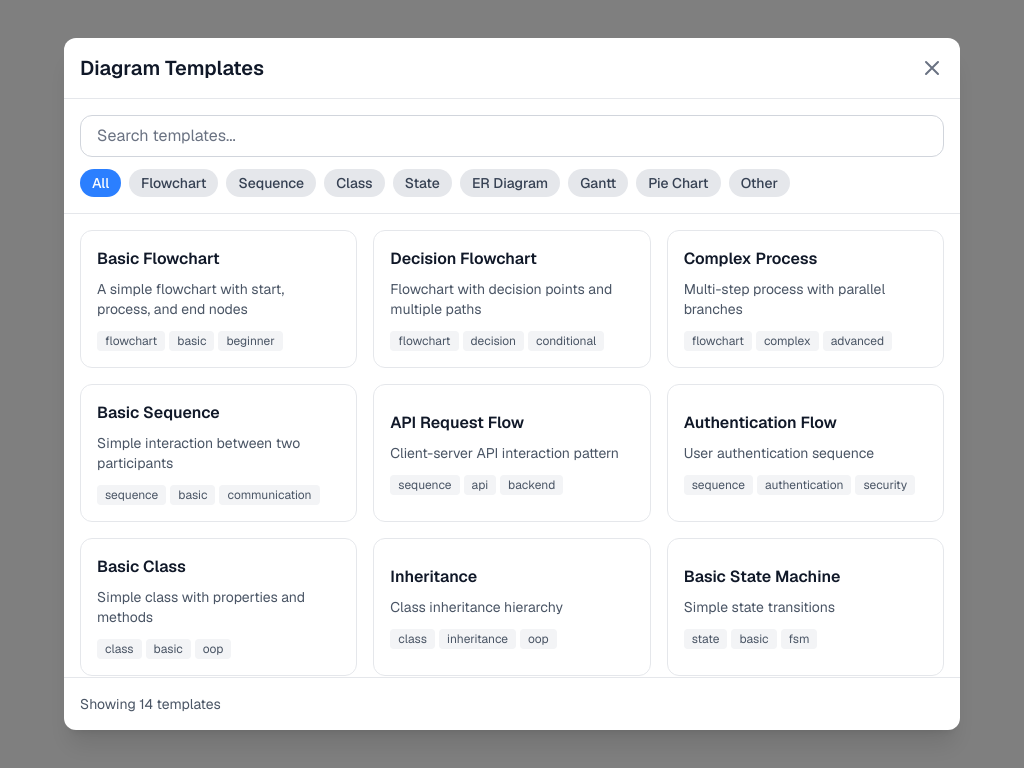
Test: TemplateSelector › should show no results message when search has no matches
Step 1. Type "xyznonexistent123" into the field with placeholder "Search templates..." → point(512, 136), box [80, 115, 944, 157]
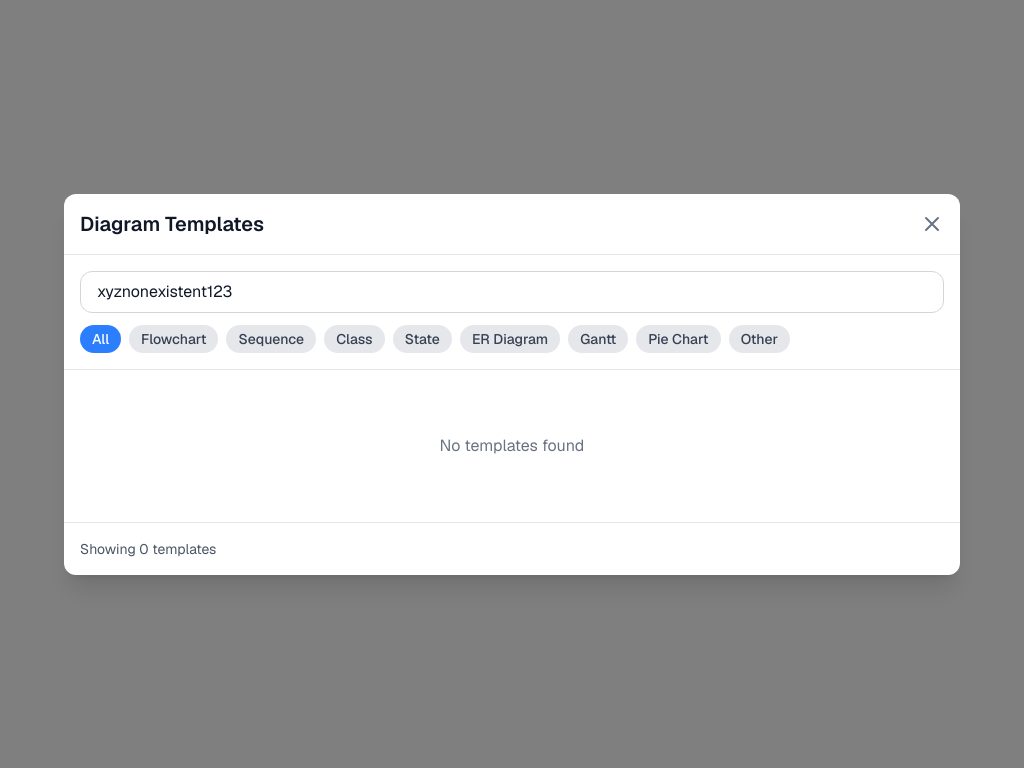
Result: the text "No templates found" is shown at [440, 434, 584, 456]
